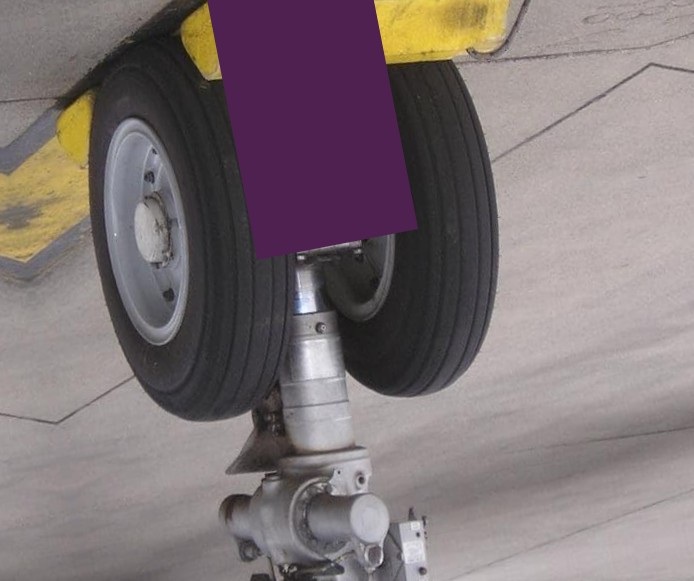chock: (170, 0, 521, 113)
wheel: (56, 20, 320, 438), (274, 40, 534, 413)
